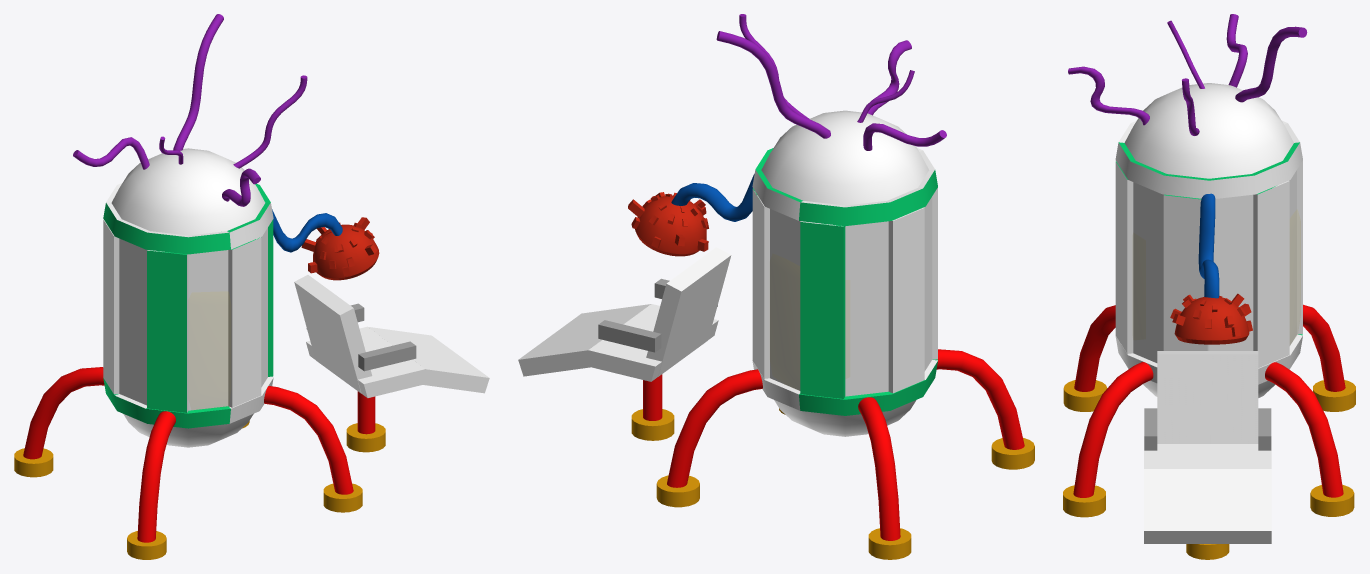
3 renders of one model, left to right at view 1: azimuth 30°, elevation 25°; view 2: azimuth 150°, elevation 25°; view 3: azimuth 270°, elevation 25°, orthographic. The views are drawn at different scales.
Parts seen in each view (by area): view 1: Capsule003, Capsule001, Box001, Sphere001, Box003, Loft004, Loft003, Loft002, Box002, Loft007, Loft005, Box004 (+8 smaller); view 2: Capsule003, Capsule001, Box001, Sphere001, Box003, Loft001, Loft002, Loft003, Box002, Loft007, Loft005, Box005 (+7 smaller); view 3: Capsule003, Box003, Box001, Sphere001, Loft004, Loft001, Box002, Loft002, Loft003, Loft005, Loft007, Cylinder003 (+11 smaller).
Part boxes in pixels (x1,y1,x2,y2): Capsule003: [103, 148, 273, 447]; Capsule001: [103, 183, 273, 428]; Box001: [294, 275, 372, 393]; Sphere001: [301, 217, 379, 280]; Box003: [368, 327, 489, 393]; Loft004: [264, 386, 353, 494]; Loft003: [137, 411, 175, 542]; Loft002: [23, 367, 104, 459]; Box002: [306, 326, 425, 397]; Loft007: [173, 14, 223, 150]; Loft005: [272, 209, 342, 252]; Box004: [358, 341, 416, 371]; Capsule003: [752, 110, 937, 436]; Capsule001: [753, 148, 937, 415]; Box001: [646, 247, 731, 376]; Sphere001: [628, 192, 708, 256]; Box003: [518, 304, 651, 376]; Loft001: [667, 369, 762, 487]; Loft002: [858, 397, 900, 540]; Loft003: [936, 349, 1024, 449]; Box002: [588, 304, 718, 381]; Loft007: [716, 31, 830, 138]; Loft005: [671, 174, 754, 221]; Box005: [598, 320, 661, 352]; Capsule003: [1115, 83, 1302, 397]; Box003: [1144, 469, 1271, 543]; Box001: [1157, 351, 1258, 443]; Sphere001: [1170, 293, 1252, 344]; Loft004: [1073, 362, 1153, 497]; Loft001: [1265, 362, 1343, 497]; Box002: [1144, 436, 1271, 468]; Loft002: [1303, 304, 1345, 391]; Loft003: [1074, 305, 1115, 391]; Loft005: [1198, 193, 1219, 298]; Loft007: [1235, 26, 1307, 102]; Cylinder003: [1310, 485, 1354, 516].
Bounding box in the file's own units: 169 × 177 × 101.
